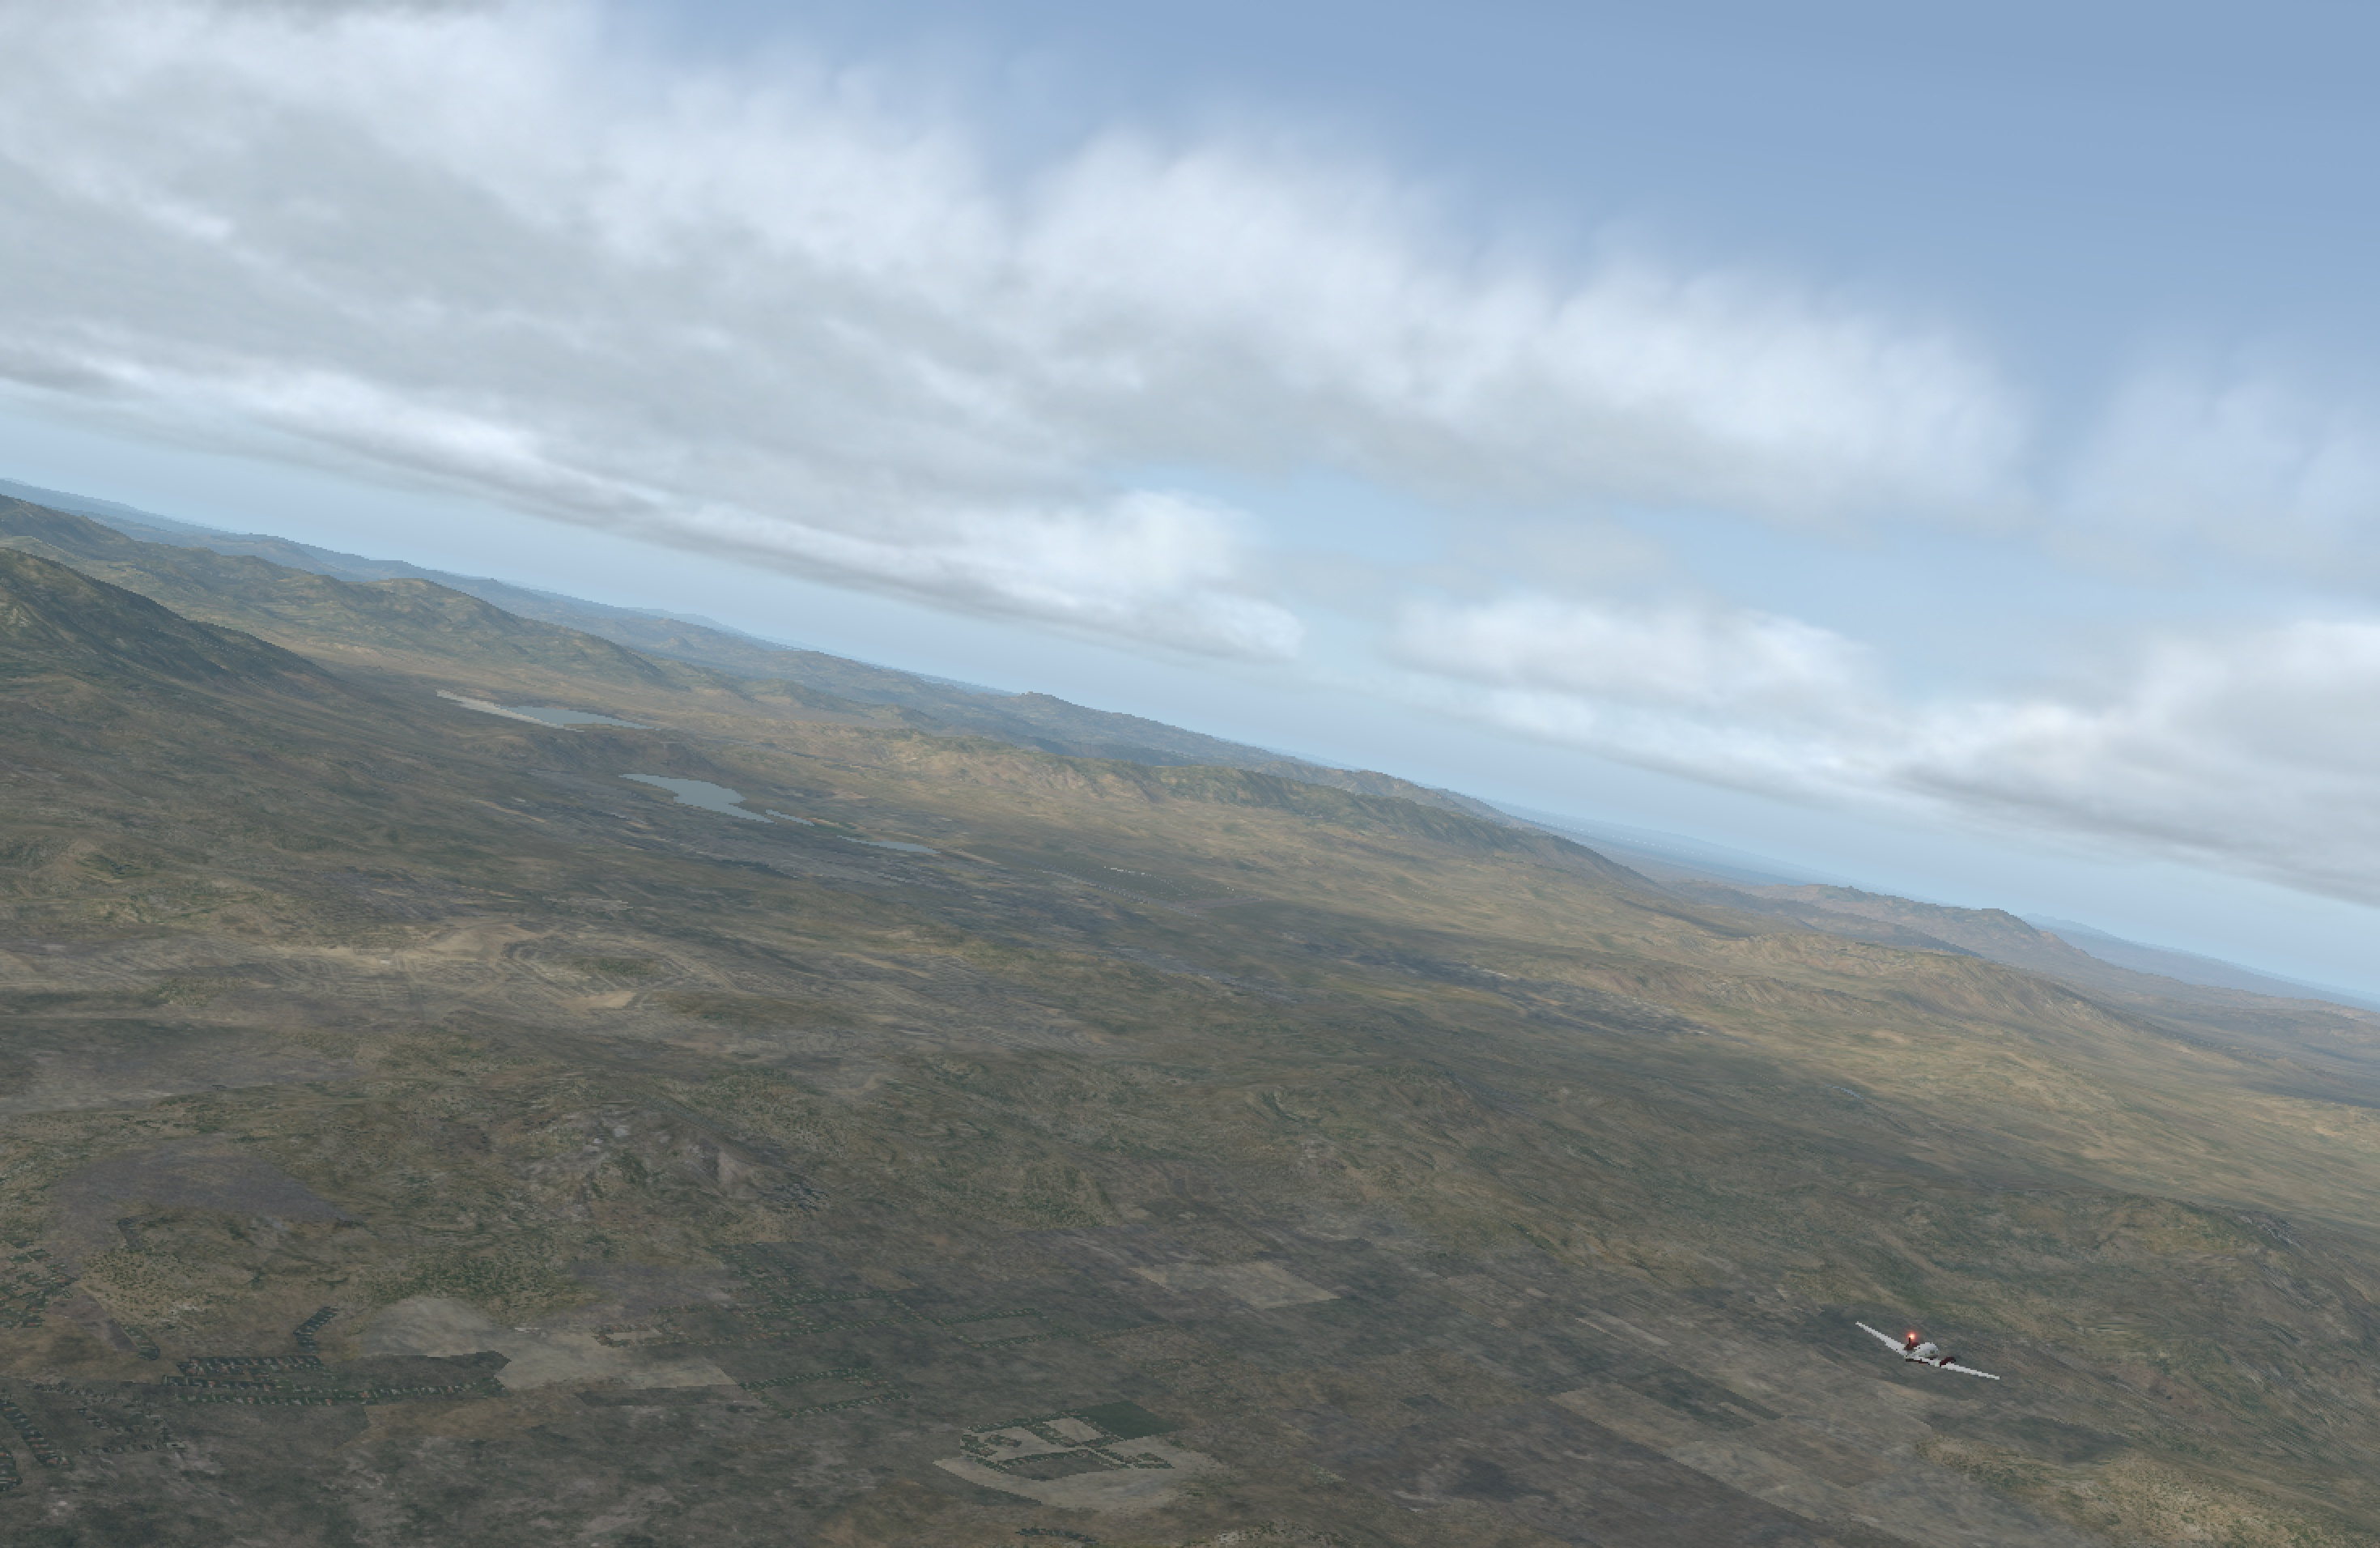aircraft: (1858, 1333, 1993, 1383)
